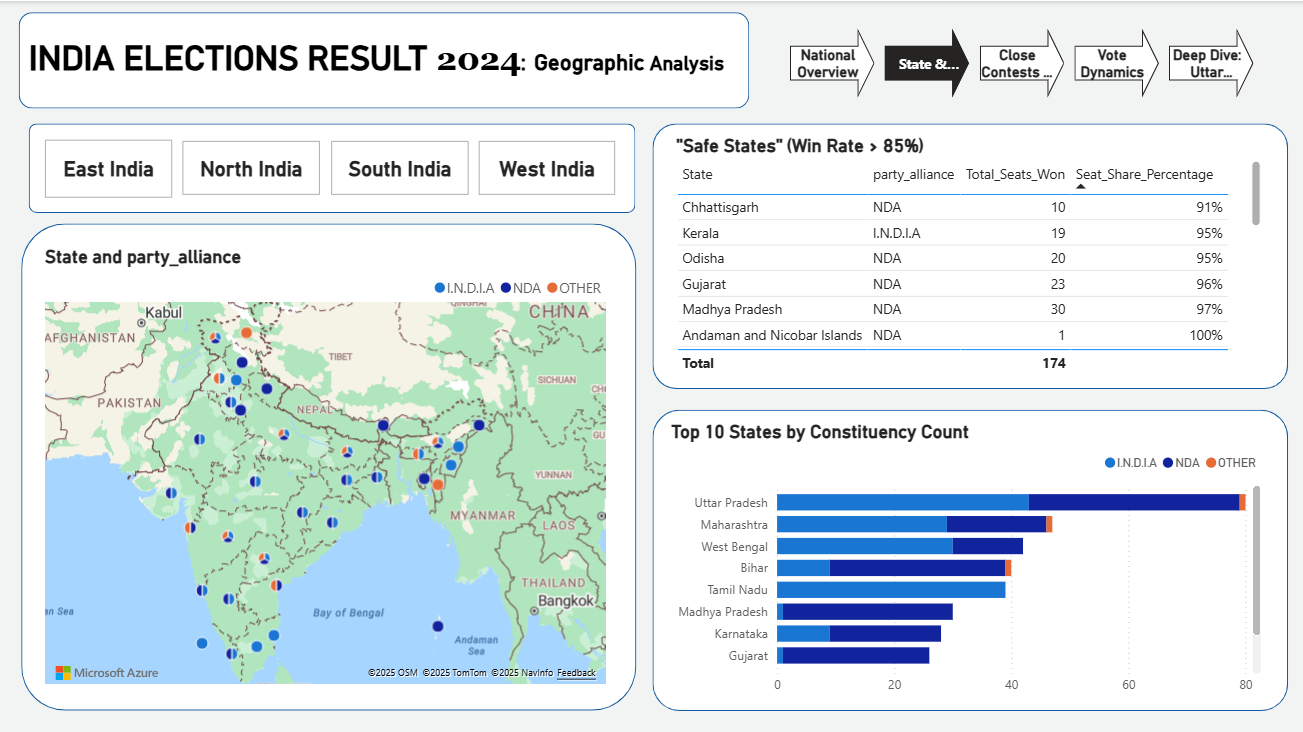

The page's visual inventory and layout, read from the dashboard file:
{"tool":"powerbi","page":{"name":"State & Geographic Analysis","canvas":[1280,720],"ordinal":1},"visuals":[{"type":"shape","box":[18.9,10.8,717.1,94.5],"z":0},{"type":"pageNavigator","box":[775.2,27,456.5,68.9],"z":1000},{"type":"shape","box":[20.3,218.8,603.7,478.1],"z":2000},{"type":"azureMap","fields":{"Category":["vw_constituency_analysis.State"],"Series":["vw_constituency_analysis.party_alliance"]},"box":[39.2,240.4,560.5,434.9],"z":3000},{"type":"shape","box":[640.1,120.2,623.9,260.6],"z":4000},{"type":"tableEx","title":"\"Safe States\" (Win Rate > 85%)","fields":{"Values":["Safe States  (Win Rate > 85%).State","Safe States  (Win Rate > 85%).party_alliance","Sum(Safe States  (Win Rate > 85%).Total_Seats_Won)","Safe States  (Win Rate > 85%).Seat_Share_Percentage"]},"box":[659,131,583.4,240.4],"z":5000},{"type":"shape","box":[640.1,401.1,623.9,295.8],"z":6000},{"type":"barChart","title":"Top 10 States by Constituency Count","fields":{"Category":["vw_constituency_analysis.State"],"Y":["Count(vw_constituency_analysis.Constituency_ID)"],"Series":["vw_constituency_analysis.party_alliance"]},"box":[653.6,411.9,588.8,276.9],"z":7000},{"type":"shape","box":[28.4,120.2,595.6,87.8],"z":8000},{"type":"advancedSlicerVisual","fields":{"Values":["vw_constituency_analysis.Region"]},"box":[39.2,131,135.1,67.5],"z":9000},{"type":"advancedSlicerVisual","fields":{"Values":["vw_constituency_analysis.Region"]},"box":[174.2,132.3,145.9,63.5],"z":10000},{"type":"advancedSlicerVisual","fields":{"Values":["vw_constituency_analysis.Region"]},"box":[320.1,132.3,145.9,63.5],"z":11000},{"type":"advancedSlicerVisual","fields":{"Values":["vw_constituency_analysis.Region"]},"box":[464.6,132.3,144.5,63.5],"z":12000},{"type":"textbox","box":[20.9,31.9,714.1,57.7],"z":13000}]}

Visuals, with their boxes in screenshot pixels (x1, y1, x2, y2), scaled from the page's 1280x720 canvas onto the 1303x732 screenshot:
shape: bbox=[19, 11, 749, 107]
pageNavigator: bbox=[789, 27, 1254, 97]
shape: bbox=[21, 222, 635, 709]
azureMap - vw_constituency_analysis.State x vw_constituency_analysis.party_alliance: bbox=[40, 244, 610, 687]
shape: bbox=[652, 122, 1287, 387]
""Safe States" (Win Rate > 85%)" tableEx: bbox=[671, 133, 1265, 378]
shape: bbox=[652, 408, 1287, 709]
"Top 10 States by Constituency Count" barChart: bbox=[665, 419, 1265, 700]
shape: bbox=[29, 122, 635, 211]
advancedSlicerVisual - vw_constituency_analysis.Region: bbox=[40, 133, 177, 202]
advancedSlicerVisual - vw_constituency_analysis.Region: bbox=[177, 135, 326, 199]
advancedSlicerVisual - vw_constituency_analysis.Region: bbox=[326, 135, 474, 199]
advancedSlicerVisual - vw_constituency_analysis.Region: bbox=[473, 135, 620, 199]
textbox: bbox=[21, 32, 748, 91]
